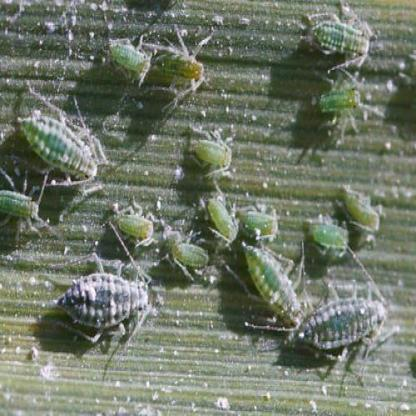aphid: (10, 85, 112, 201), (59, 262, 159, 354), (291, 283, 388, 371), (243, 234, 305, 349), (141, 20, 212, 100), (301, 0, 378, 69), (152, 217, 216, 286), (2, 162, 55, 245), (316, 70, 377, 138), (306, 202, 360, 273), (93, 19, 151, 85), (100, 192, 162, 244), (188, 133, 239, 183), (203, 182, 239, 252), (238, 197, 284, 249), (344, 180, 380, 238)
